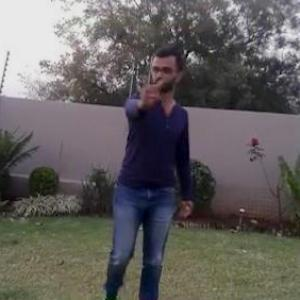takeoff-hand: (130, 69, 172, 117)
